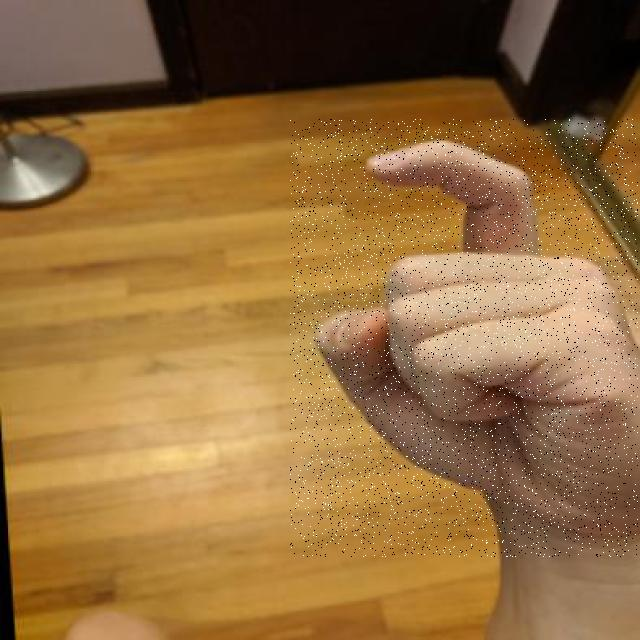X: (290, 119, 638, 557)
